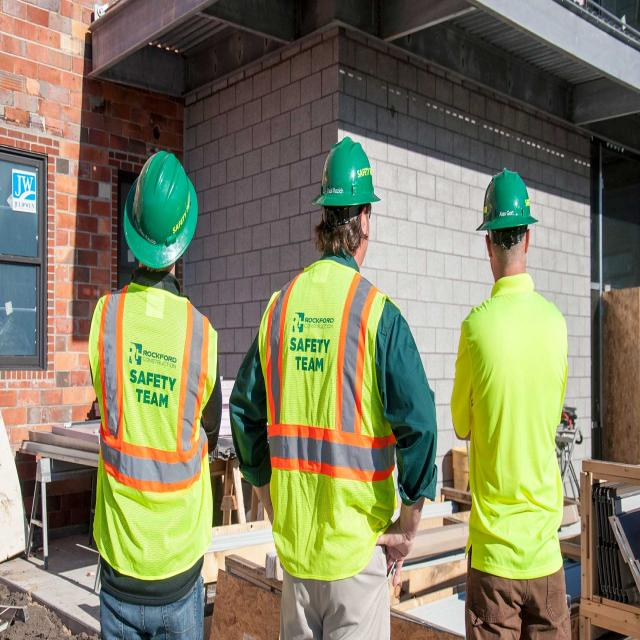Reflective-Jacket: (257, 257, 405, 581), (86, 281, 222, 582)
Safety-Helmet: (122, 140, 202, 272), (311, 131, 383, 214), (474, 162, 540, 236)
